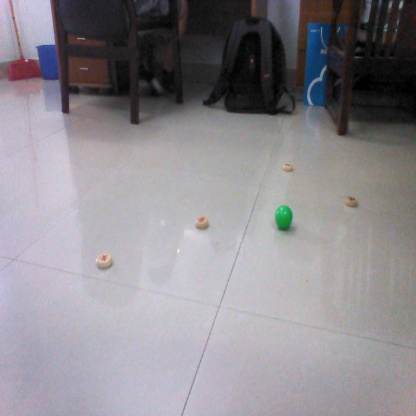ball: (275, 206, 296, 229)
chess: (94, 253, 117, 269), (190, 215, 211, 229), (346, 196, 363, 208), (280, 162, 298, 173)
